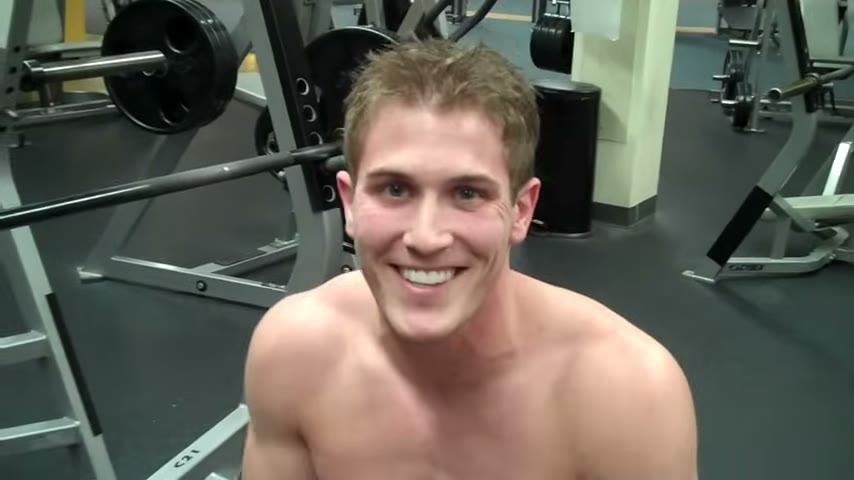barbell_plate_side: (59, 0, 251, 474)
